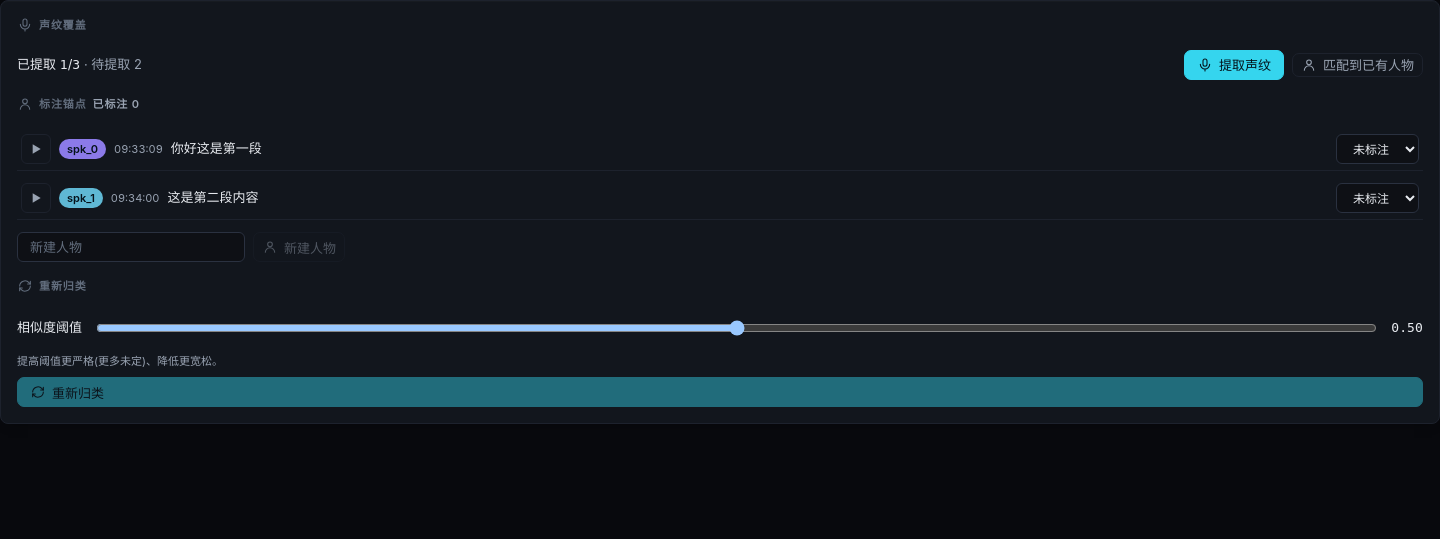
Test: VoiceprintPanel › POSTs recluster with anchors + threshold and renders the returned distribution
Check: the text "你好这是第一段" is shown, box 171,140 -> 262,156
Step 1. Select "李雷" in the dropdown named "标注 seg_1" → point(1378, 149), box 1336,134 -> 1419,164
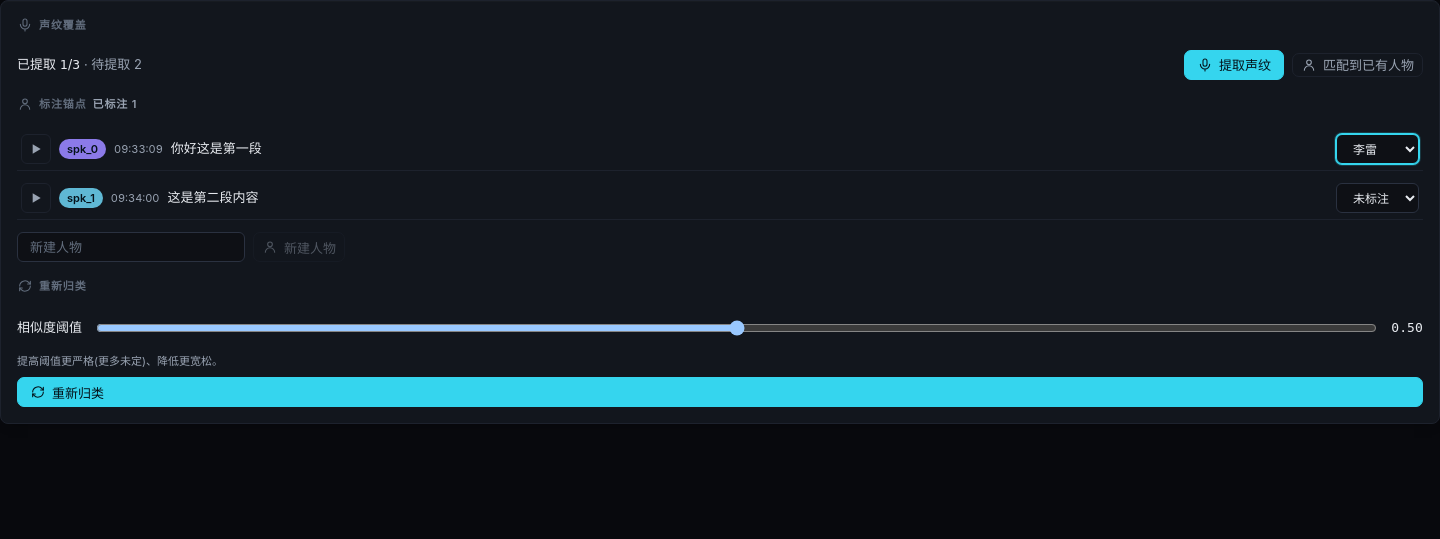
Step 2. Click the button "重新归类" → point(78, 392), box 17,377 -> 1423,407
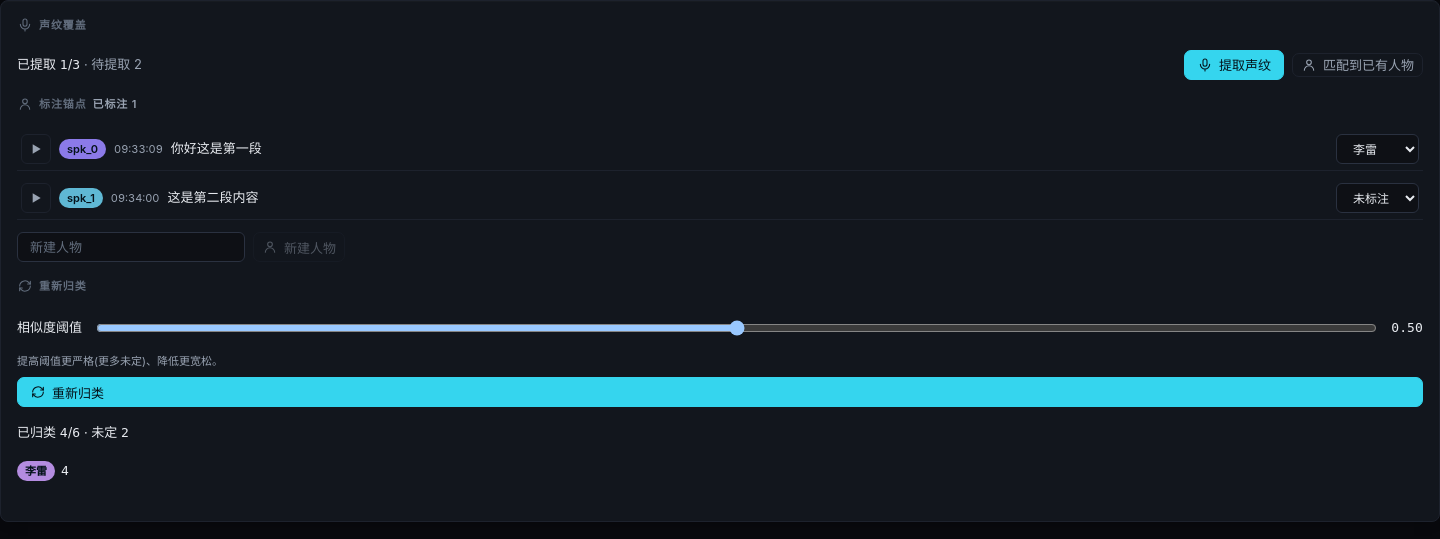
Check: the list "李雷 4" is shown, box 17,460 -> 69,481
